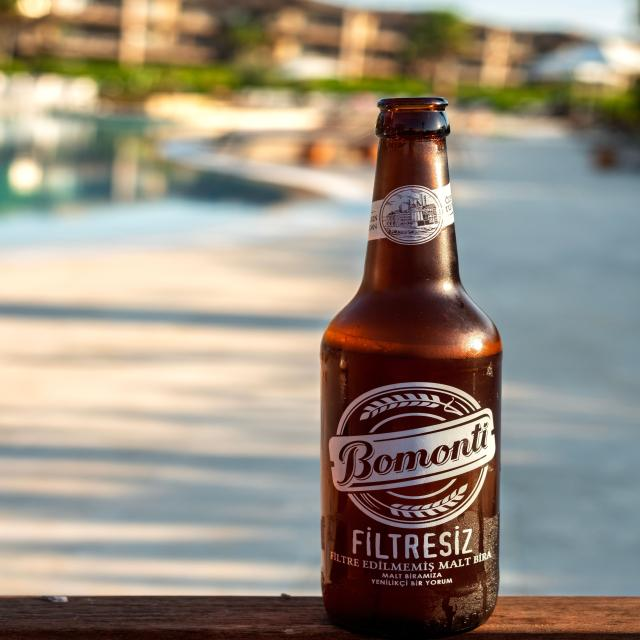Bottle: (322, 98, 501, 638)
